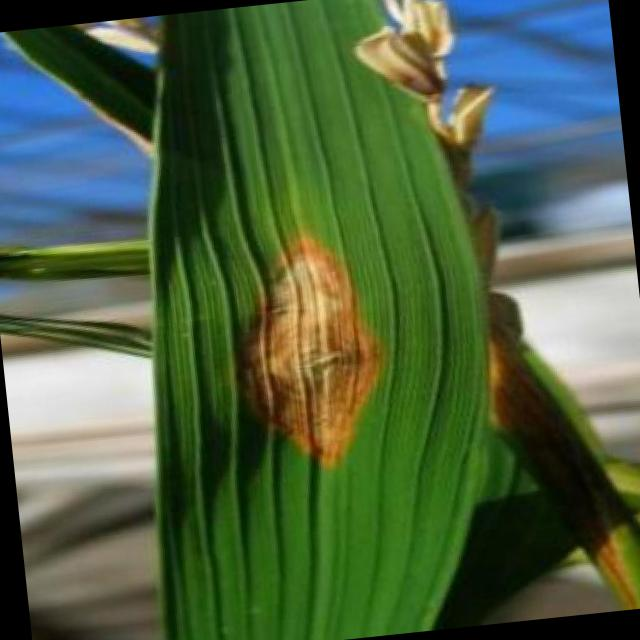Rice_Blast: (211, 201, 422, 532)
